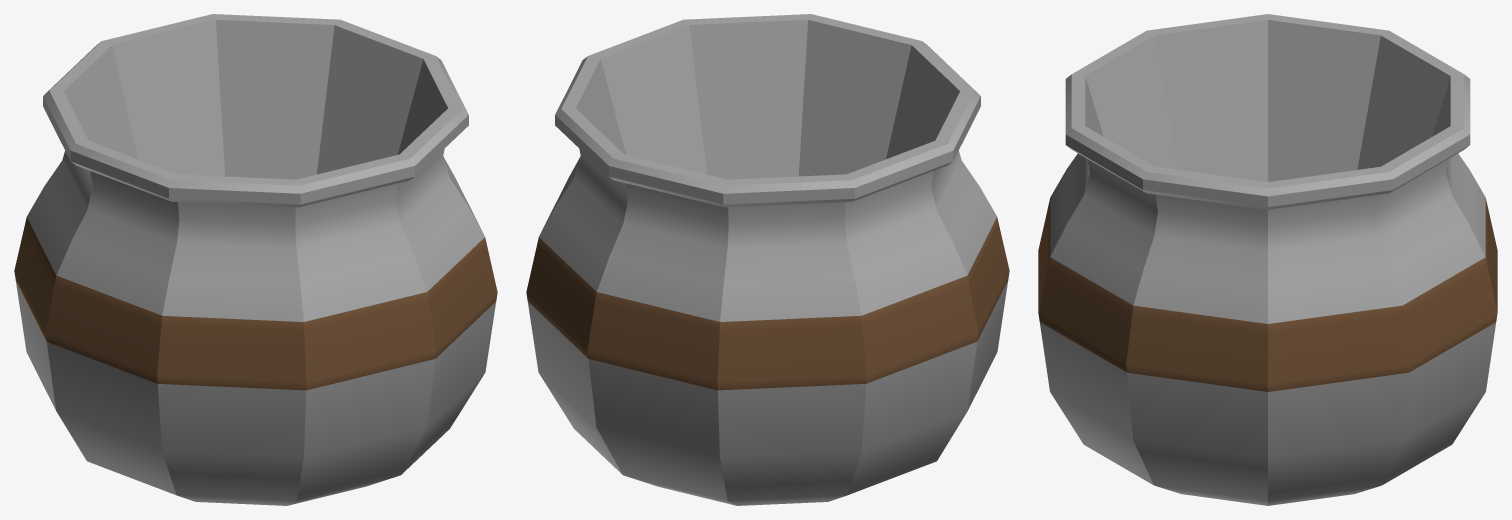
File: Clay_Pot_FT.fbx
The picture shows the model from 3 angles, left to right: view 1: azimuth 30°, elevation 25°; view 2: azimuth 150°, elevation 25°; view 3: azimuth 270°, elevation 25°; orthographic projection.
Visible parts, largest first — view 1: Clay_Pot_Test; view 2: Clay_Pot_Test; view 3: Clay_Pot_Test.
Boxes of the visible parts, bbox=[...] form: Clay_Pot_Test: bbox=[14, 14, 497, 505]; Clay_Pot_Test: bbox=[526, 14, 1009, 505]; Clay_Pot_Test: bbox=[1038, 14, 1497, 505].
Bounding box in the file's own units: 1.22 × 0.9563 × 1.16.
